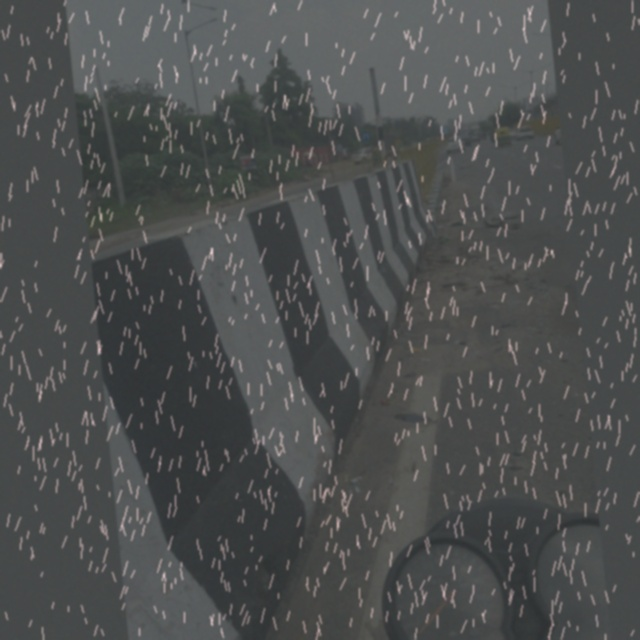Pass_Either_Side: (358, 128, 369, 140)
